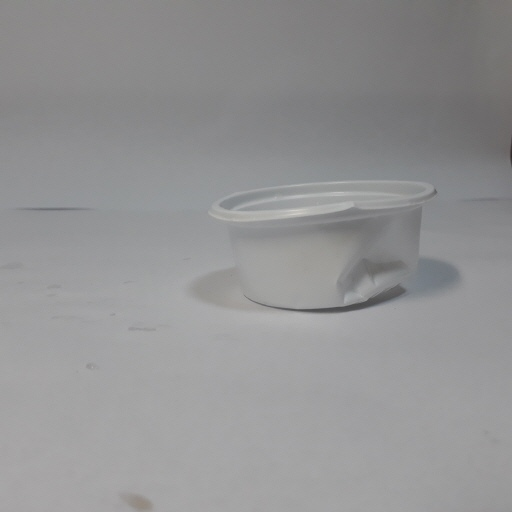Plastic_5: (207, 178, 439, 312)
